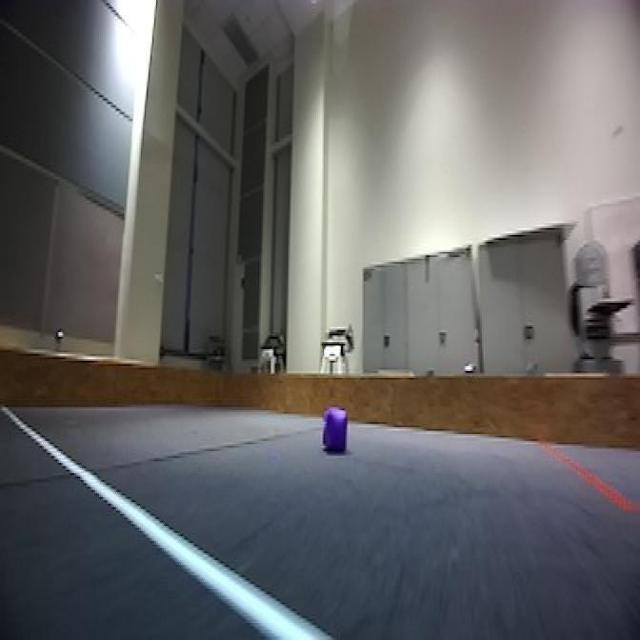frc_cube: (319, 402, 351, 454)
